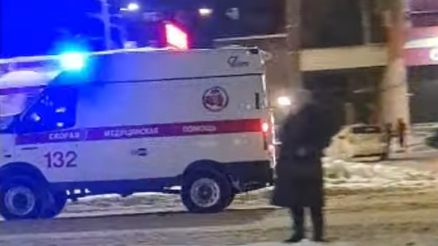ambulance: (0, 43, 276, 220)
non emergency car: (338, 124, 390, 162)
